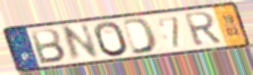7: (157, 15, 181, 49)
B: (28, 27, 68, 65)
D: (120, 16, 159, 56)
N: (60, 21, 102, 63)
O: (92, 20, 131, 58)
R: (182, 11, 225, 48)
